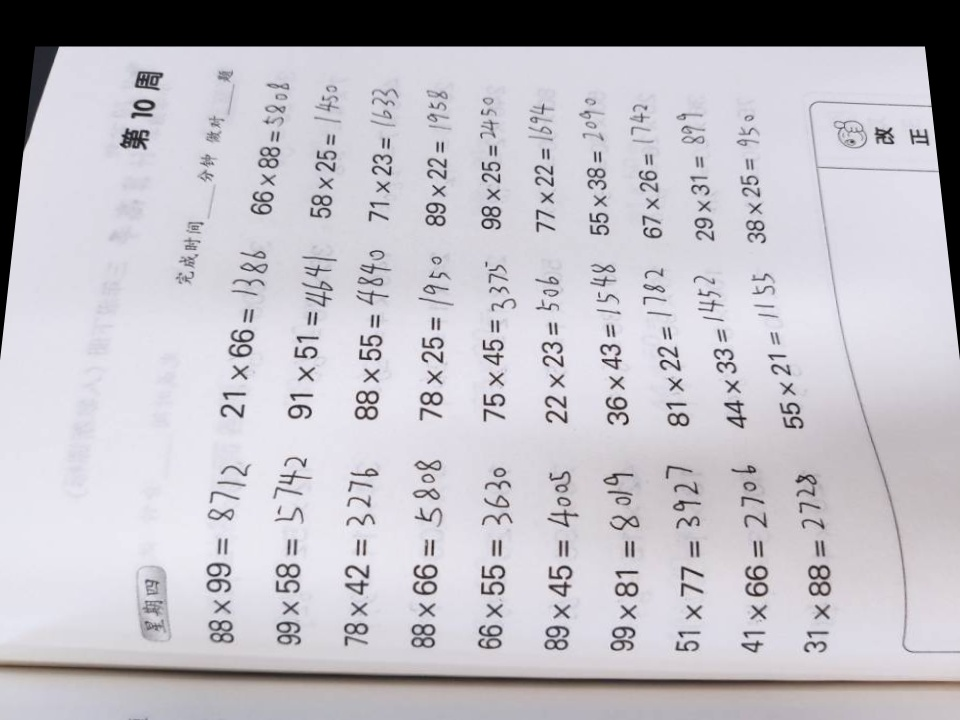equation: (175, 444, 257, 656), (263, 437, 334, 657), (322, 454, 387, 662), (394, 447, 454, 650), (724, 458, 780, 658), (218, 244, 270, 435), (786, 467, 838, 656), (662, 466, 713, 655), (599, 464, 650, 653), (471, 465, 520, 654), (531, 465, 580, 654), (752, 261, 802, 432), (693, 264, 742, 435), (588, 261, 636, 432), (529, 268, 577, 439), (641, 267, 689, 438), (286, 253, 334, 423), (413, 253, 460, 423), (351, 250, 398, 420), (470, 259, 516, 429), (730, 97, 777, 254), (672, 103, 719, 260), (624, 98, 671, 255), (521, 89, 567, 246), (355, 78, 401, 234), (245, 71, 291, 227), (303, 79, 349, 234), (468, 92, 513, 249), (571, 88, 616, 244), (415, 83, 460, 239)
